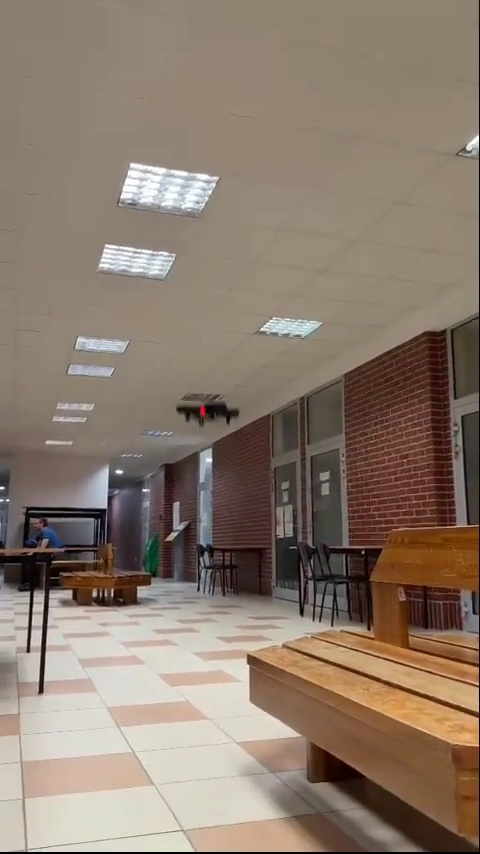drone: (170, 397, 243, 428)
no vest: (24, 518, 62, 569)
